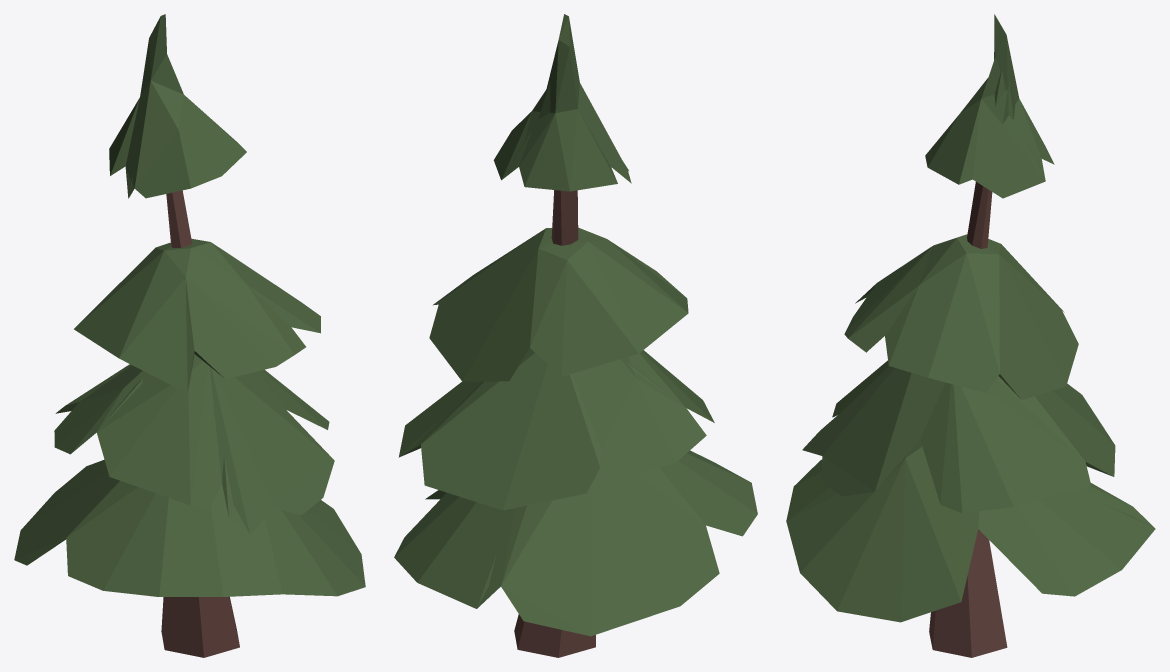
Rendered from pine-tree-2.gltf.
3 renders of one model, left to right at view 1: azimuth 30°, elevation 25°; view 2: azimuth 150°, elevation 25°; view 3: azimuth 270°, elevation 25°, orthographic. The views are drawn at different scales.
Visible parts, largest first — view 1: PineTree_2_Cylinder.024; view 2: PineTree_2_Cylinder.024; view 3: PineTree_2_Cylinder.024.
Part boxes in pixels (x1,y1,x2,y2): PineTree_2_Cylinder.024: (14, 14, 365, 657); PineTree_2_Cylinder.024: (394, 14, 757, 657); PineTree_2_Cylinder.024: (786, 14, 1155, 657).
Size of the model in its own units: 0.0178 by 0.0357 by 0.0195.
